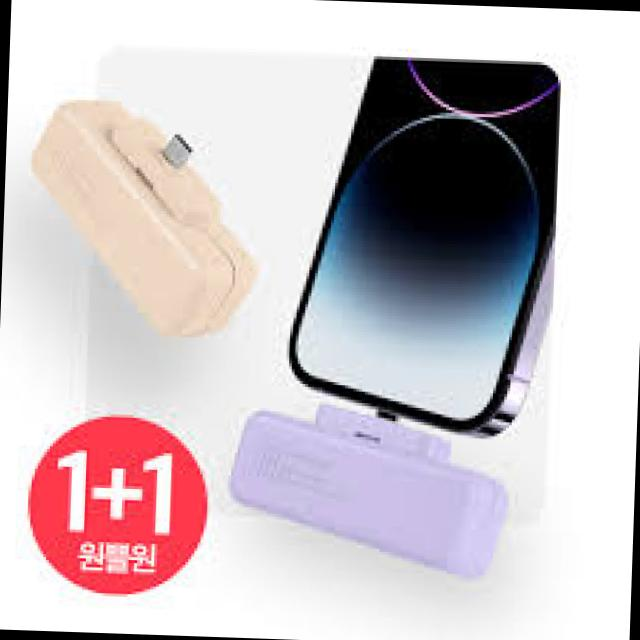portable-charger: (22, 91, 264, 345), (218, 392, 512, 586)
